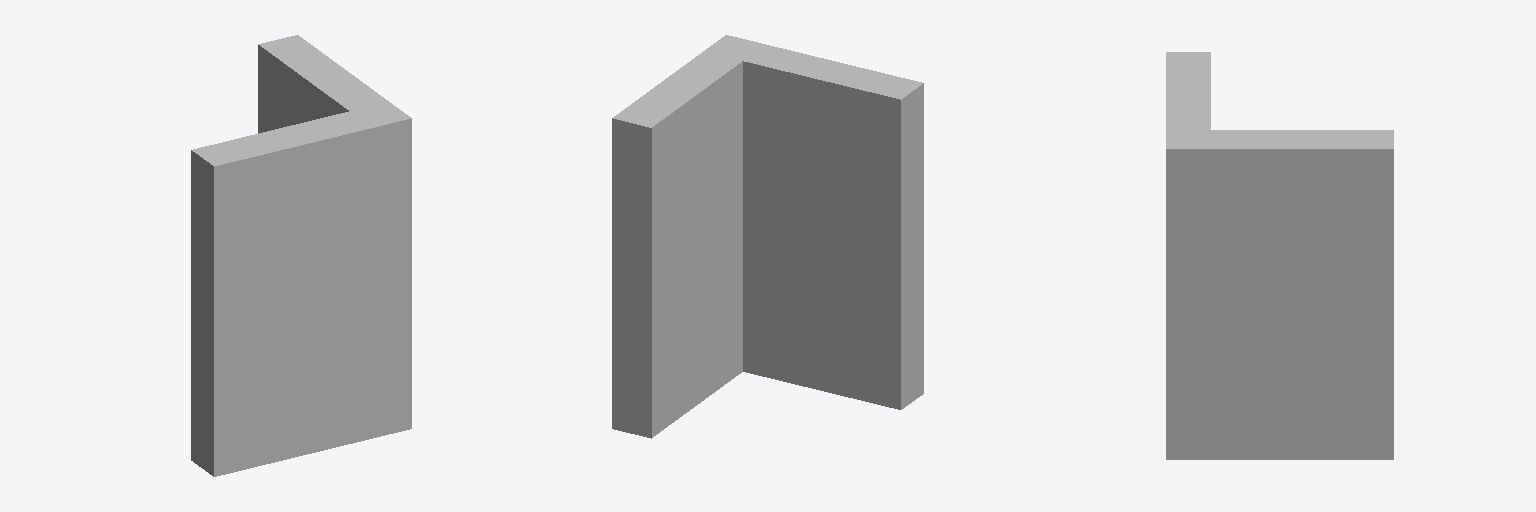
The model's file is mur deux adjacents.obj.
3 views of the same model, side by side, from view 1: azimuth 30°, elevation 25°; view 2: azimuth 150°, elevation 25°; view 3: azimuth 270°, elevation 25° (orthographic).
Visible parts, largest first — view 1: Cube; view 2: Cube; view 3: Cube.
Part boxes in pixels (left/top/right/bottom): Cube: left=191, top=35, right=411, bottom=476; Cube: left=612, top=35, right=923, bottom=438; Cube: left=1166, top=52, right=1393, bottom=459.
Size of the model in its own units: 2 by 3 by 2.